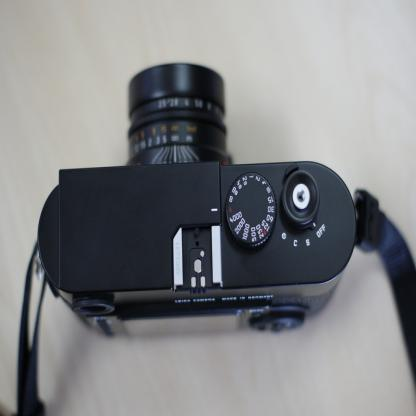Camera: (38, 61, 359, 337)
